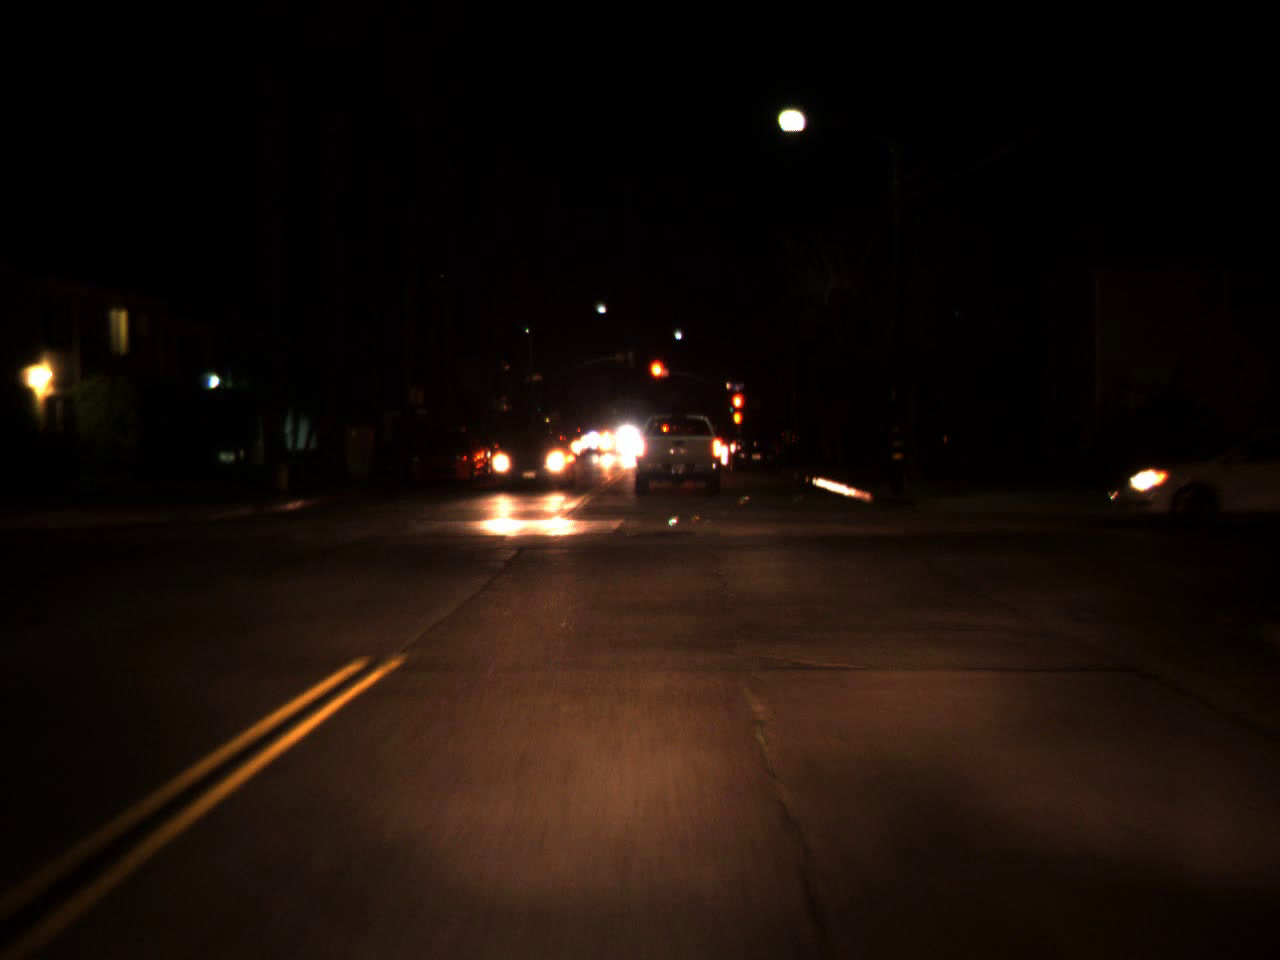stop: (647, 357, 669, 397), (730, 390, 745, 427)
